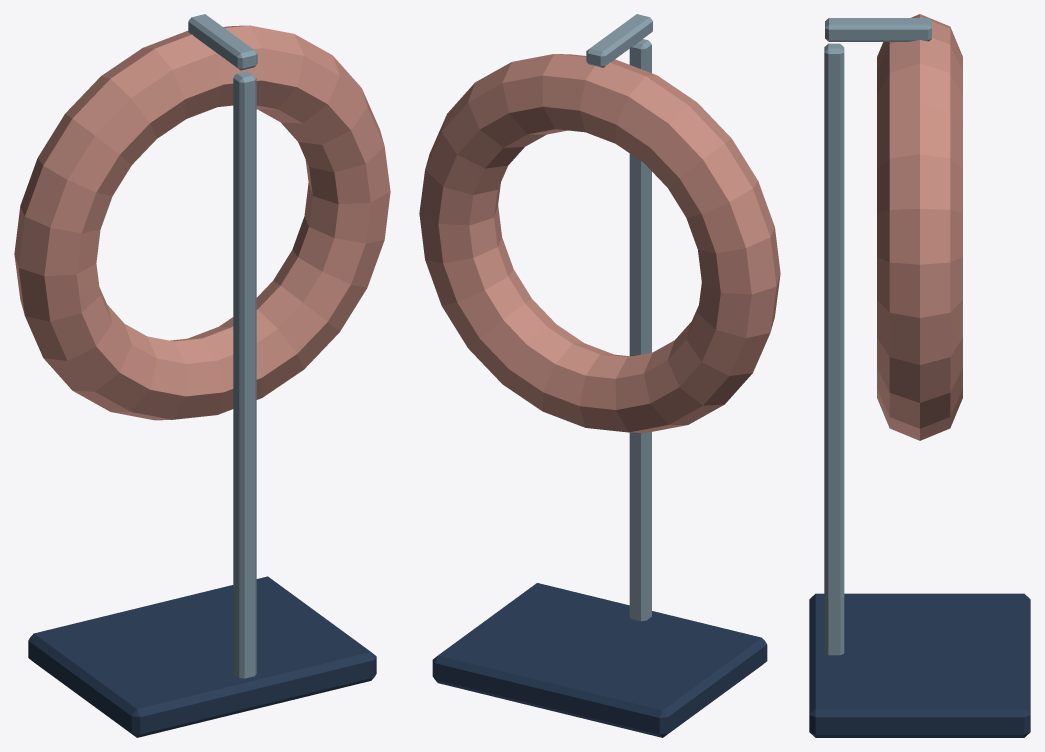
The model's file is swim_ring_display_stand.glb.
3 views of the same model, side by side, from view 1: azimuth 30°, elevation 25°; view 2: azimuth 150°, elevation 25°; view 3: azimuth 270°, elevation 25° (orthographic). The views are drawn at different scales.
Visible parts, largest first — view 1: swim_ring, ring_stand_base, ring_stand_post, ring_hook; view 2: swim_ring, ring_stand_base, ring_stand_post, ring_hook; view 3: swim_ring, ring_stand_base, ring_stand_post, ring_hook.
Boxes of the visible parts, left/top/right/bottom form: swim_ring: left=14, top=25, right=390, bottom=420; ring_stand_base: left=28, top=576, right=376, bottom=737; ring_stand_post: left=233, top=71, right=256, bottom=678; ring_hook: left=188, top=14, right=257, bottom=70; swim_ring: left=419, top=54, right=780, bottom=432; ring_stand_base: left=432, top=583, right=767, bottom=737; ring_stand_post: left=629, top=39, right=651, bottom=621; ring_hook: left=586, top=14, right=652, bottom=67; swim_ring: left=877, top=14, right=962, bottom=440; ring_stand_base: left=809, top=593, right=1030, bottom=737; ring_stand_post: left=824, top=43, right=844, bottom=655; ring_hook: left=825, top=18, right=931, bottom=41.
Size of the model in its own units: 0.6 by 1.02 by 0.31.
